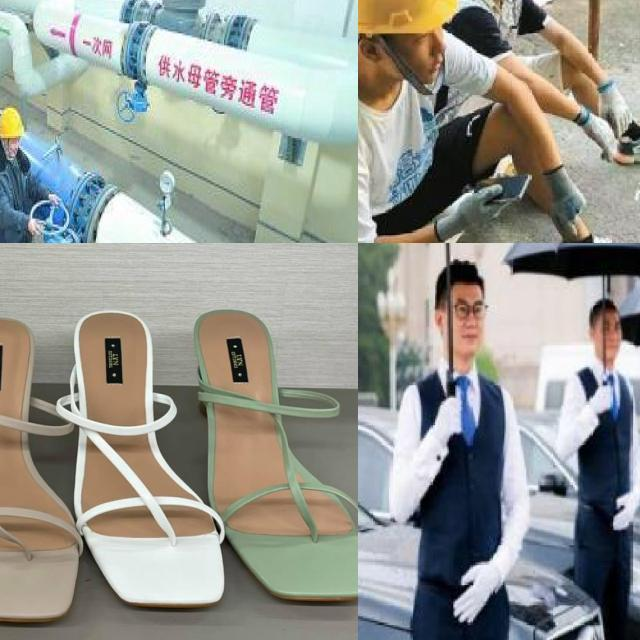Sandals: (171, 276, 358, 618), (60, 285, 244, 630), (0, 297, 91, 640)
face_nomask: (374, 22, 457, 88), (446, 287, 483, 349), (600, 318, 624, 361), (3, 132, 23, 157)
glasses: (450, 295, 490, 321)
hand_glove: (451, 560, 496, 622), (459, 184, 511, 232), (548, 183, 583, 235), (583, 112, 617, 163), (598, 94, 632, 138), (432, 395, 464, 436), (611, 490, 638, 533), (594, 379, 615, 412)
hand_noglove: (24, 215, 49, 240), (46, 189, 62, 209)
head_helmet: (358, 0, 459, 36), (0, 106, 26, 141)
head_nohelmet: (434, 253, 492, 300), (584, 299, 622, 327)
person: (365, 265, 518, 640), (358, 0, 577, 243), (417, 0, 640, 183), (550, 291, 640, 640), (0, 103, 48, 243)
shoes: (607, 125, 640, 167)
